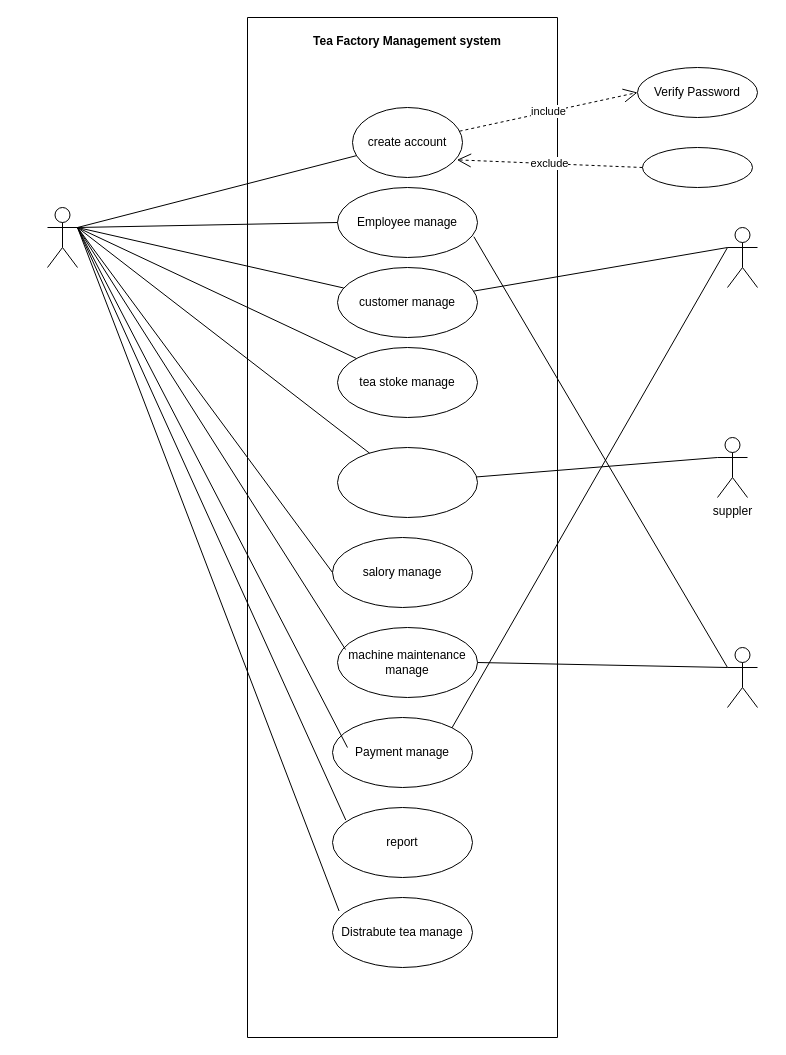
The diagram is 786 pixels wide and 1055 high, and some of its shapes have lost their labels. Here are the shapes that lost their labels. From the top down, the box of each, then its label:
(642, 146, 752, 188): OTP
(46, 206, 78, 268): Factory manager
(726, 226, 758, 288): Customer
(336, 446, 478, 518): Supplier manage
(726, 646, 758, 708): employee
